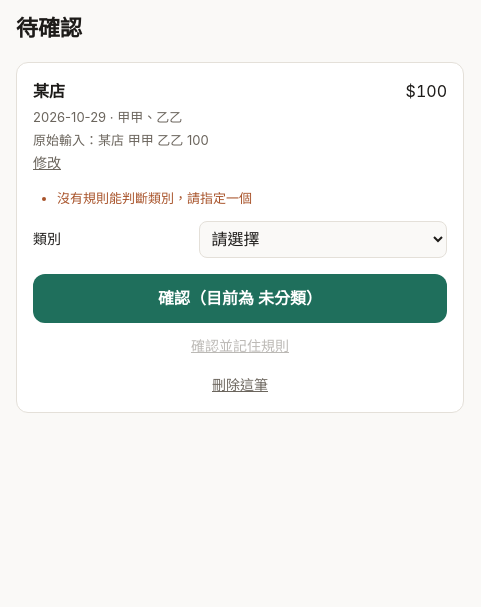
確認與確認並記住規則（B4.2a） › 多品項略過逐項指定 → 只記住店家並確認
The image size is (481, 607).
Select "🎬 娛樂" in the dropdown labelled "類別" at {"x": 323, "y": 239}, box [199,221,447,258]
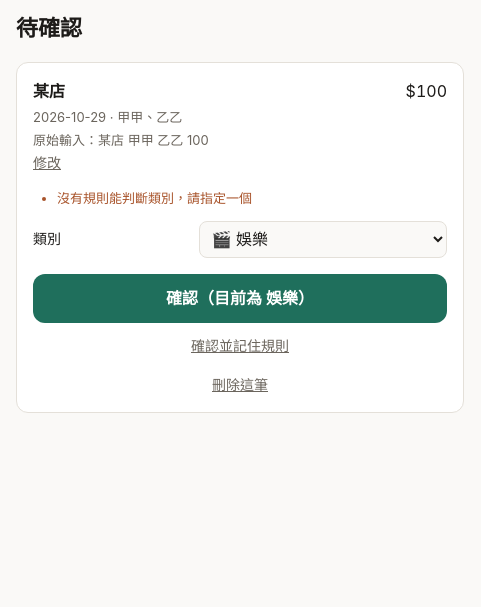
Click the button "確認並記住規則" at {"x": 240, "y": 347}, box [191,335,289,358]
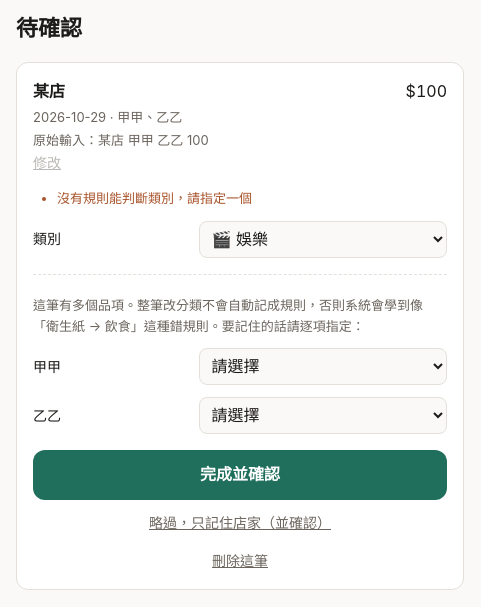
Result: the text "逐項指定" is shown at [33,297,423,334]
Click the button "略過，只記住店家（並確認）" at {"x": 240, "y": 523}, box [149,512,331,534]
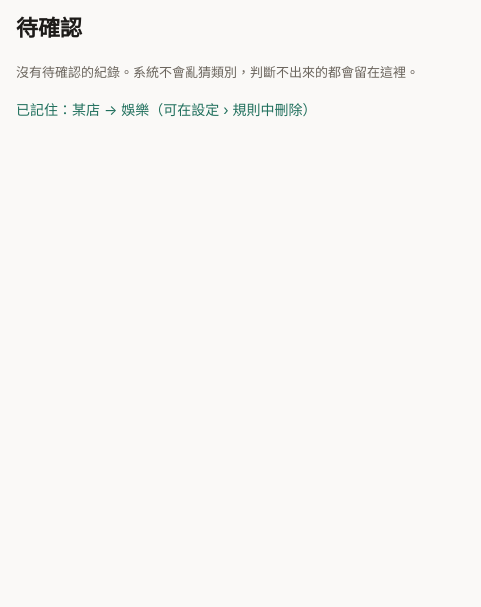
Result: the text "沒有待確認的紀錄" is shown at [16,64,419,80]
